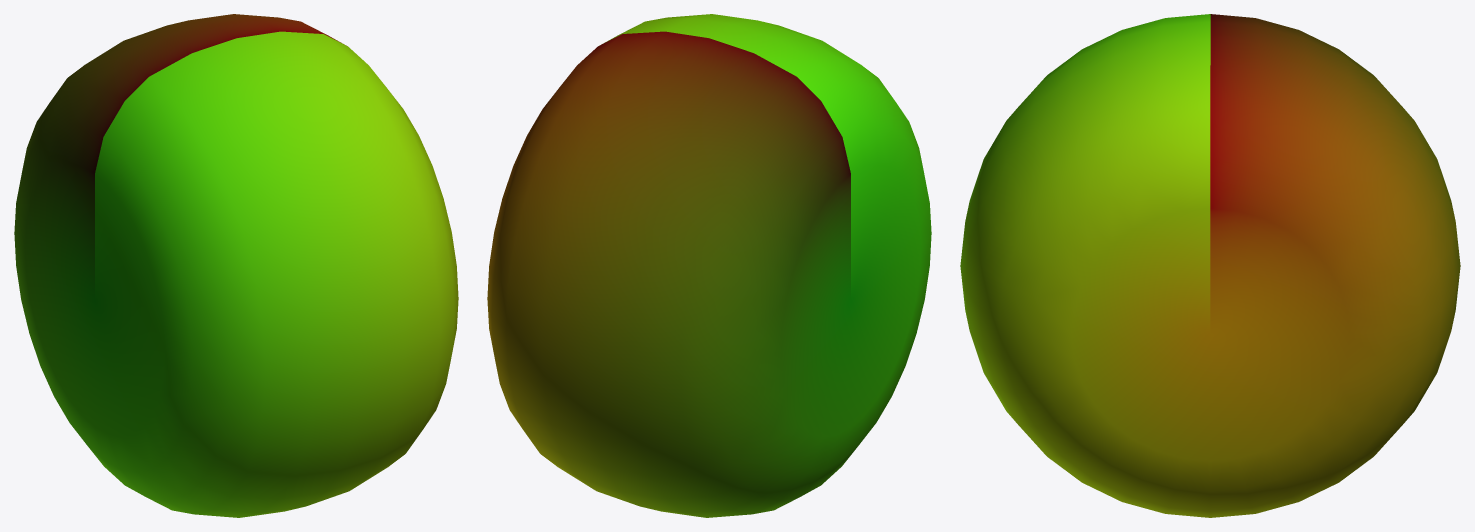
The model's file is Char_Ball.fbx.
The picture shows the model from 3 angles, left to right: view 1: azimuth 30°, elevation 25°; view 2: azimuth 150°, elevation 25°; view 3: azimuth 270°, elevation 25°; orthographic projection.
Parts seen in each view (by area): view 1: Ball; view 2: Ball; view 3: Ball.
Boxes of the visible parts, <box> form: Ball: <box>14,14,458,517</box>; Ball: <box>487,14,931,517</box>; Ball: <box>960,14,1460,517</box>.
Bounding box in the file's own units: 0.6506 × 1 × 1.
